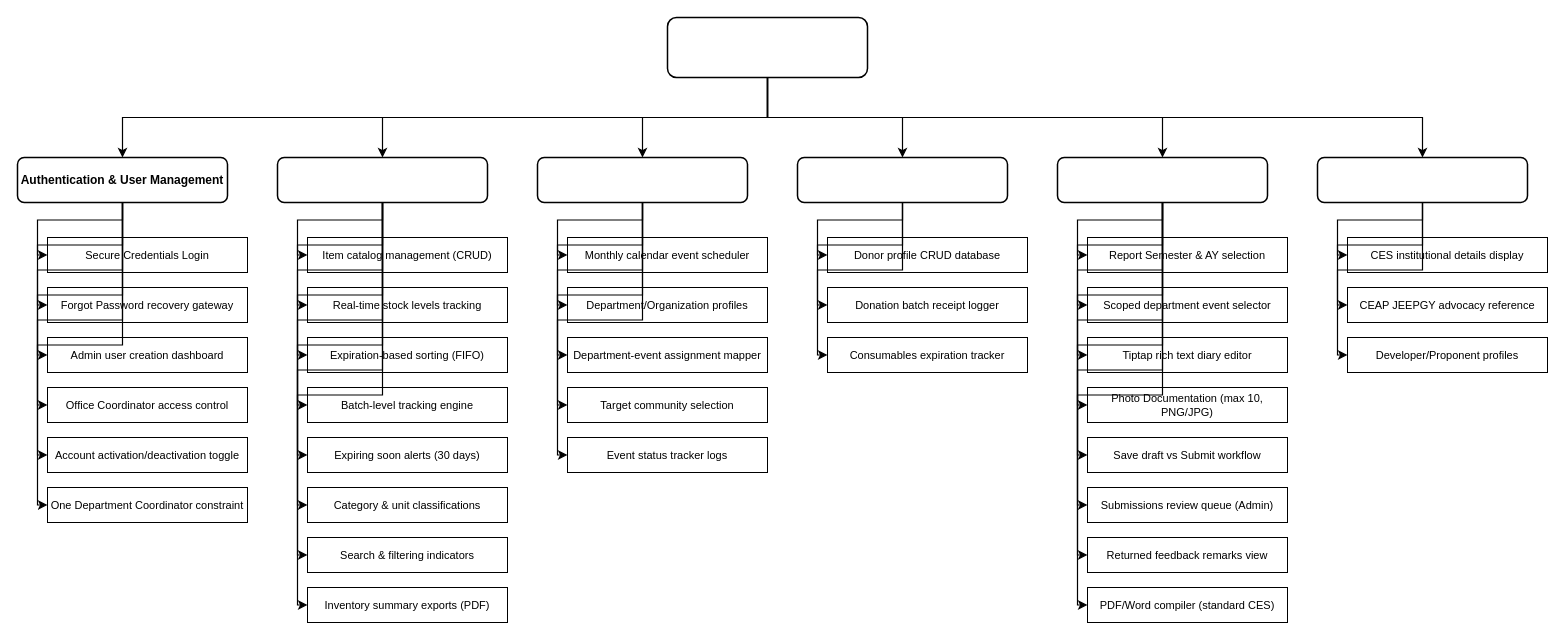
Image size: 1566x641. Some labels were removed from this diagram. The centre of each missing label's shape, as x and y in pixels:
"DommUnity System" belongs at point 767,47.
"Donor & Donation Management" belongs at point 902,179.
"Event & Department Coordination" belongs at point 642,179.
"Information & Reference Module" belongs at point 1422,179.
"Inventory Management" belongs at point 382,179.
"Narrative Reports Module" belongs at point 1162,179.
